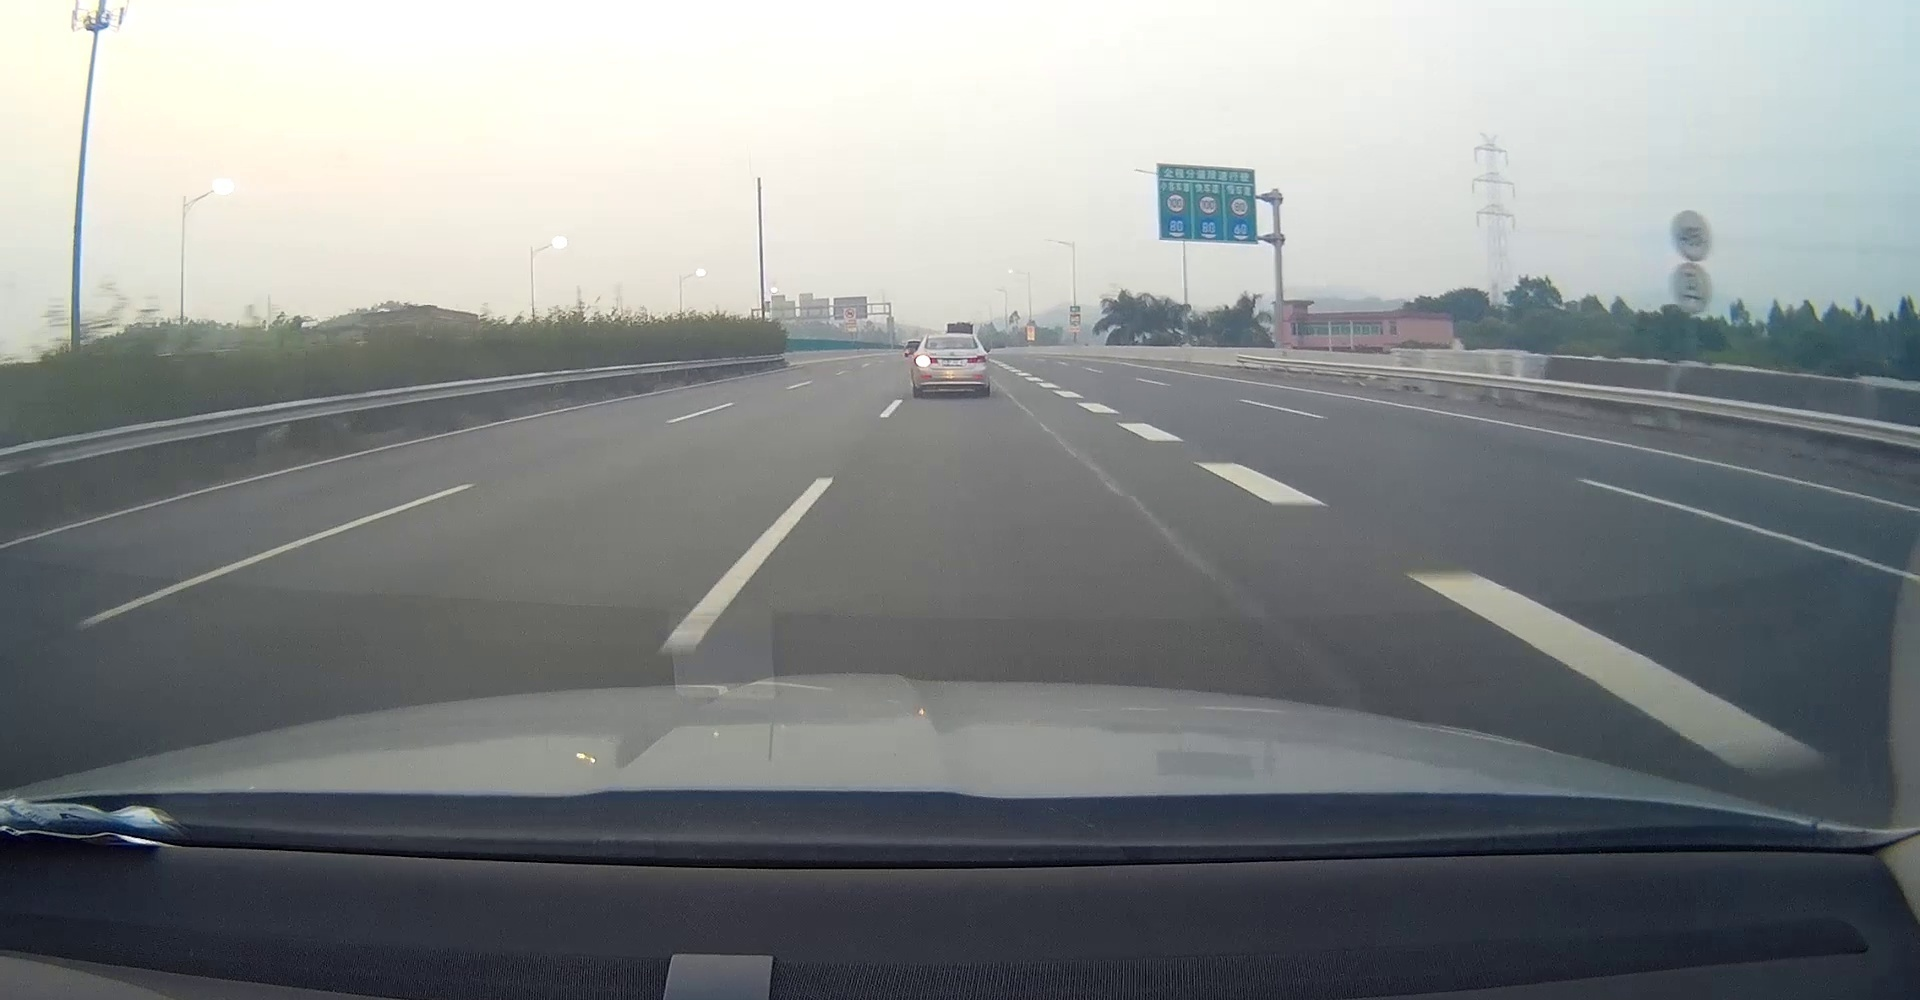L_light: (914, 357, 938, 364)
R_light: (968, 357, 987, 364)
T_light: (946, 336, 957, 340)
day-left: (910, 332, 990, 397)
